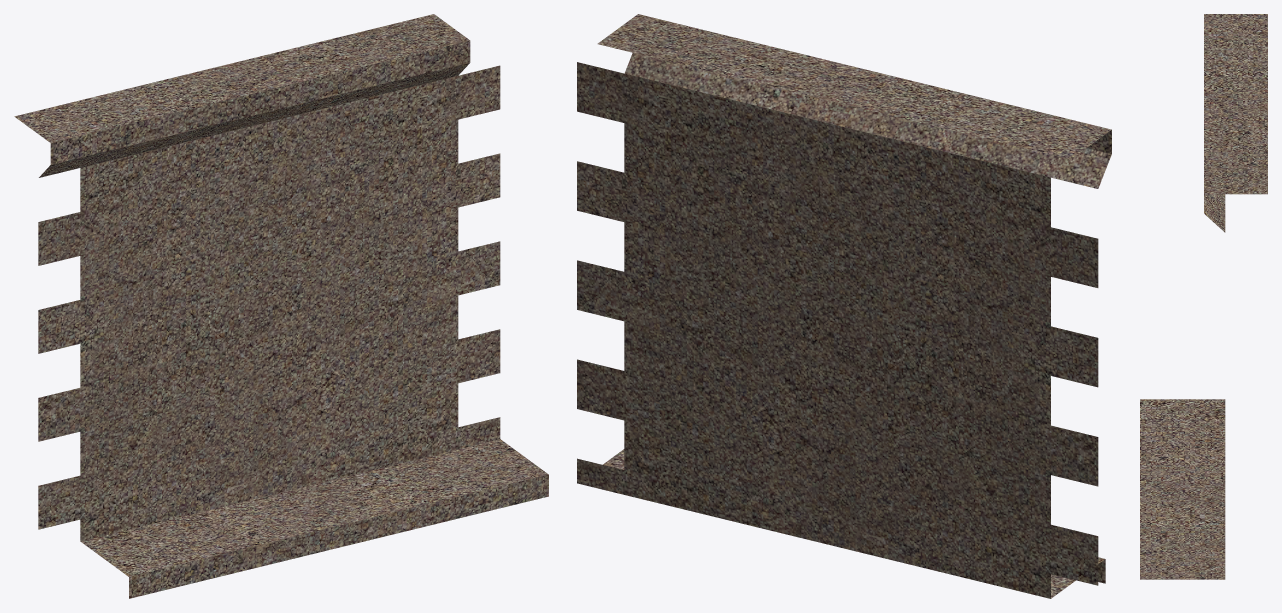
Rendered from Wall.dae.
3 renders of one model, left to right at view 1: azimuth 30°, elevation 25°; view 2: azimuth 150°, elevation 25°; view 3: azimuth 270°, elevation 25°, orthographic. The views are drawn at different scales.
Parts seen in each view (by area): view 1: Low_Poly; view 2: Low_Poly; view 3: Low_Poly.
Part boxes in pixels (box(x1,y1,x2,y2)): Low_Poly: box(14, 14, 548, 598); Low_Poly: box(577, 14, 1111, 598); Low_Poly: box(1140, 14, 1267, 579).
Size of the model in its own units: 2.2 by 0.6 by 2.
1 material, 1 textured.
